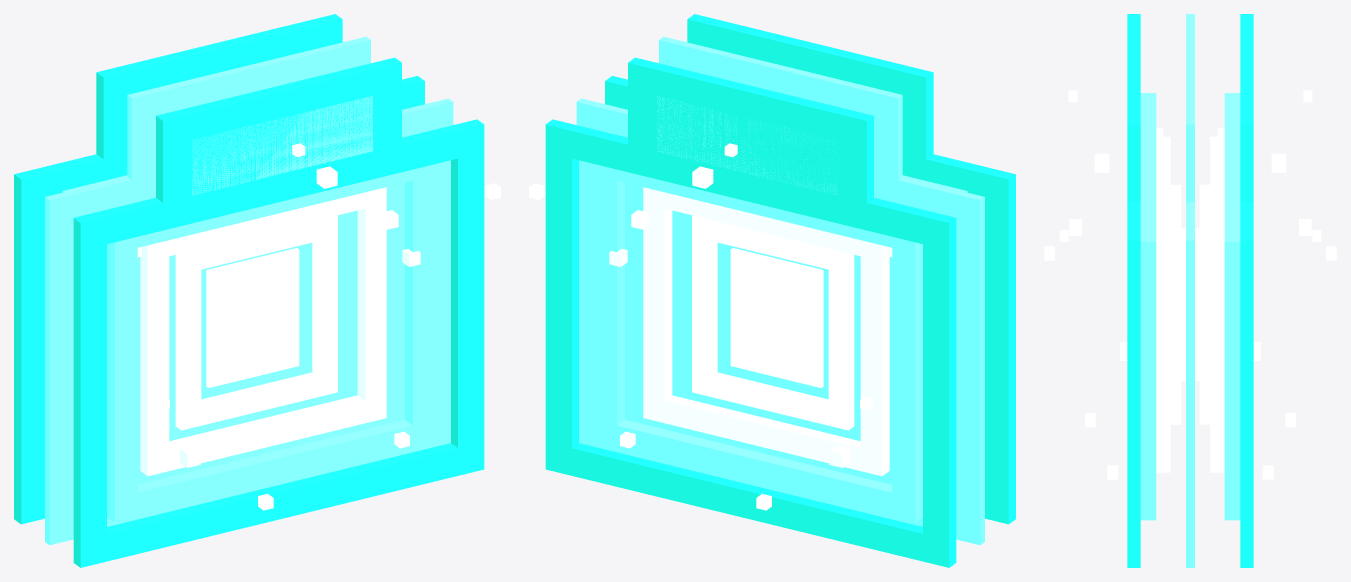
File: tt-portal-teal.glb
3 views of the same model, side by side, from view 1: azimuth 30°, elevation 25°; view 2: azimuth 150°, elevation 25°; view 3: azimuth 270°, elevation 25° (orthographic). The views are drawn at different scales.
Parts seen in each view (by area): view 1: box-prop; view 2: box-prop; view 3: box-prop.
Part boxes in pixels (x1,y1,x2,y2): box-prop: (14, 14, 500, 567); box-prop: (529, 14, 1015, 567); box-prop: (1044, 14, 1336, 567).
Size of the model in its own units: 4.9 by 4.95 by 3.24.
